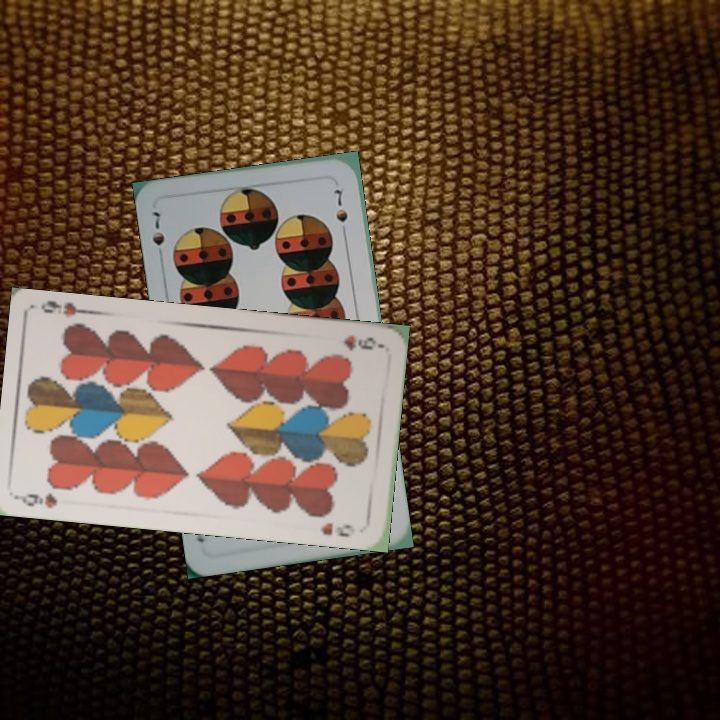H9: (16, 488, 60, 511), (339, 331, 382, 354)
S7: (148, 207, 167, 263)
